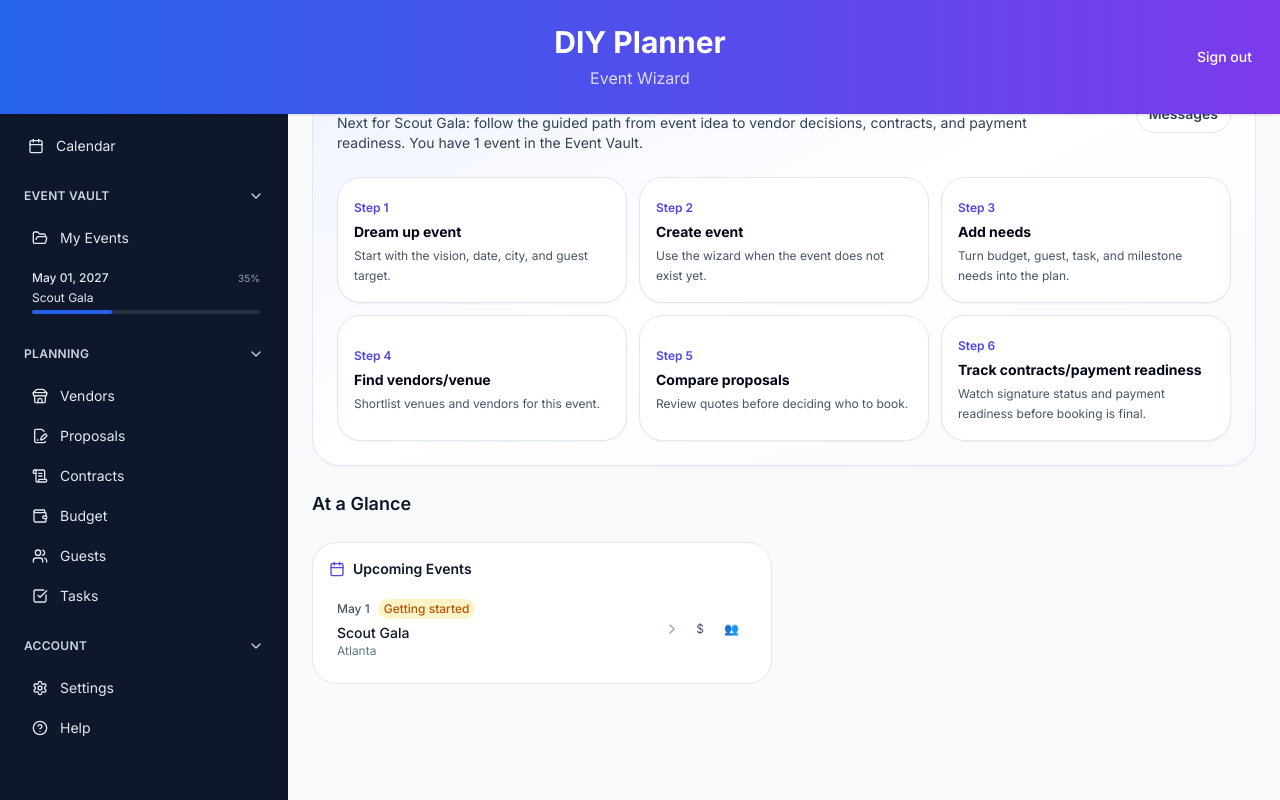
Test case: DIYPlannerDashboard cockpit › opens real account Settings and Help empty states from the DIY sidebar
The width and height of the screenshot is (1280, 800).
(page scrolled)
Expected: the text "Scout Gala" below "My Events" is shown, [32,290,94,304]
Click the link "Settings".
click(73, 687)  # box [32,678,114,696]
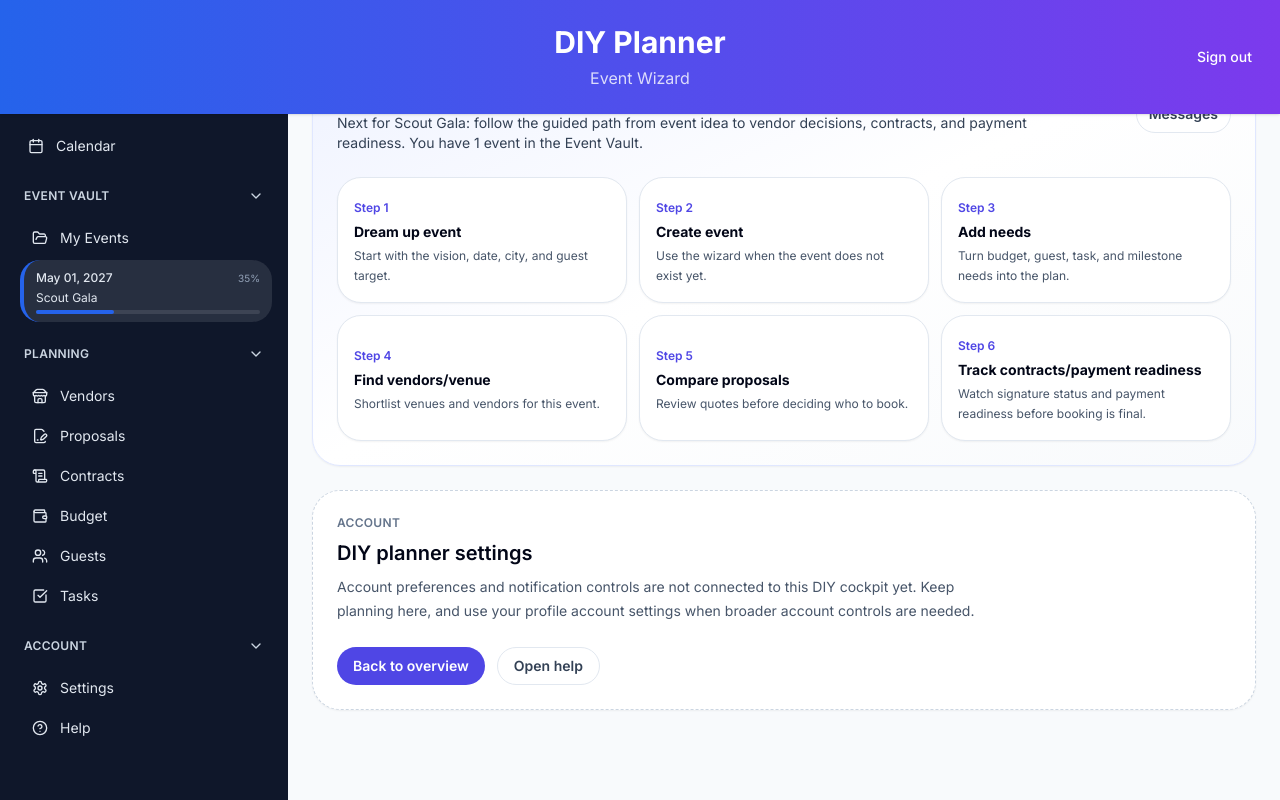
Expected: the heading "DIY planner settings" is shown, [337,540,532,564]
Expected: the text "Account preferences and notification controls" is shown, [337,578,974,618]
Expected: the button "Back to overview" is shown, [337,646,485,684]
Click the link "Help".
click(61, 727)  # box [32,718,90,736]
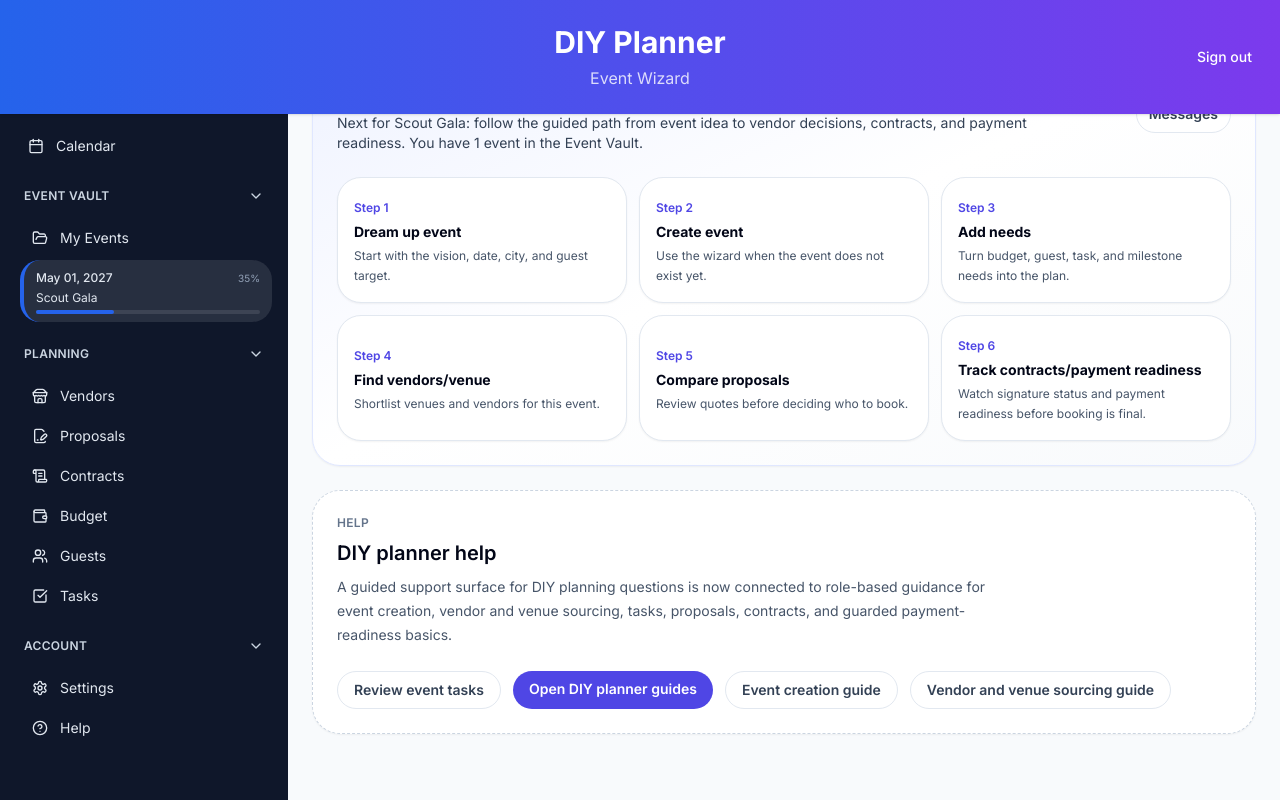
Expected: the heading "DIY planner help" is shown, [337,540,497,564]
Expected: the text "guided support surface for DIY planning questions" is shown, [337,578,985,642]
Expected: the button "Review event tasks" is shown, [337,670,501,708]
